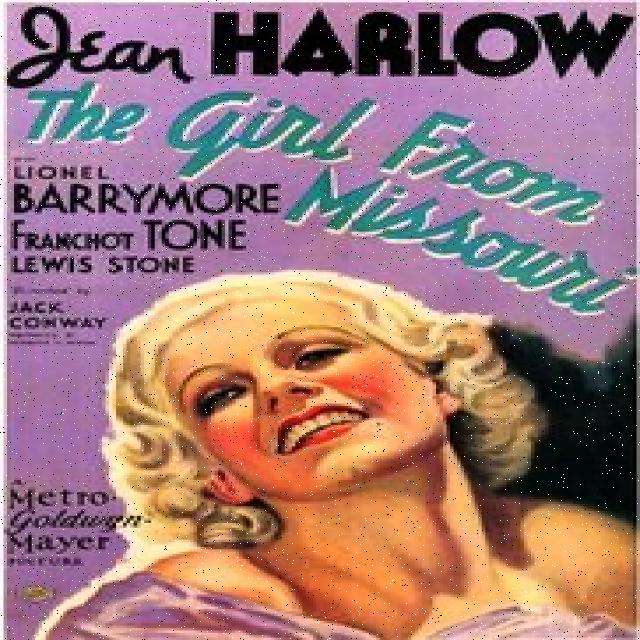movie-judul: (24, 81, 640, 315)
picture: (31, 267, 640, 639)
